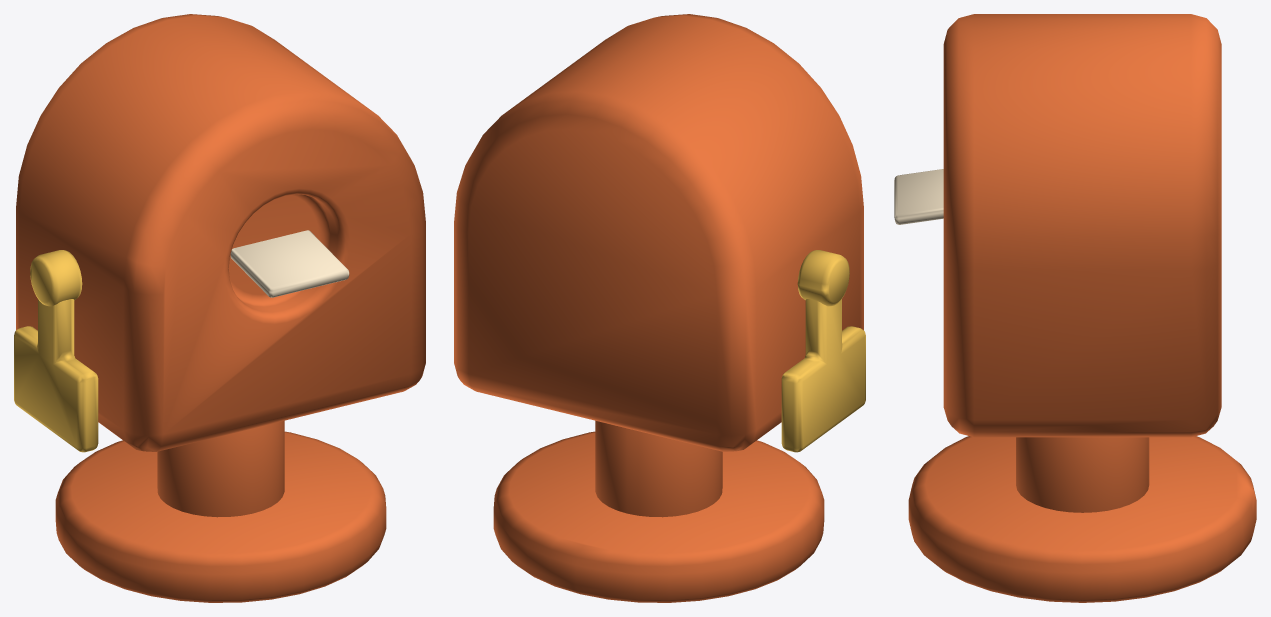
File: mailbox_draco_webp.glb
3 renders of one model, left to right at view 1: azimuth 30°, elevation 25°; view 2: azimuth 150°, elevation 25°; view 3: azimuth 270°, elevation 25°, orthographic. The views are drawn at different scales.
Parts seen in each view (by area): view 1: Mailbox_Body, Mailbox_Flag, Mailbox_Letter; view 2: Mailbox_Body, Mailbox_Flag; view 3: Mailbox_Body, Mailbox_Letter.
Boxes of the visible parts, <box> form: Mailbox_Body: <box>16,14,425,602</box>; Mailbox_Flag: <box>14,250,98,452</box>; Mailbox_Letter: <box>230,230,349,297</box>; Mailbox_Body: <box>454,14,863,602</box>; Mailbox_Flag: <box>781,250,865,452</box>; Mailbox_Body: <box>908,14,1256,602</box>; Mailbox_Letter: <box>894,169,943,224</box>.
Bounding box in the file's own units: 0.2865 × 0.4 × 0.2603.
